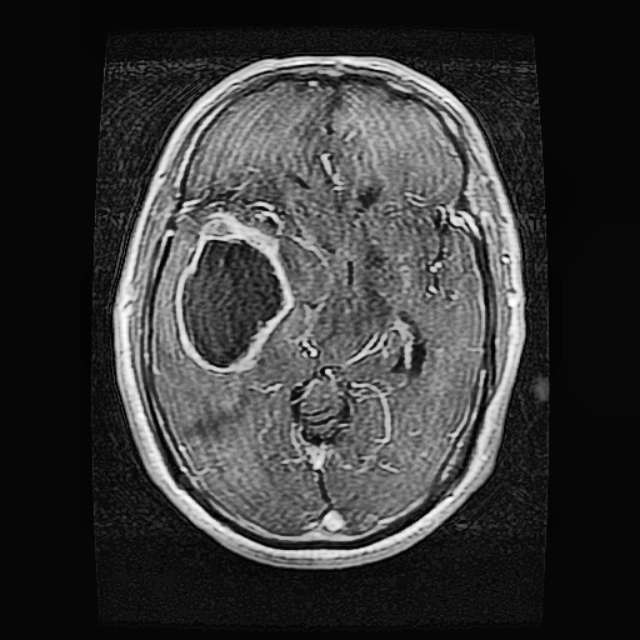Pituitary: (174, 213, 293, 373)
